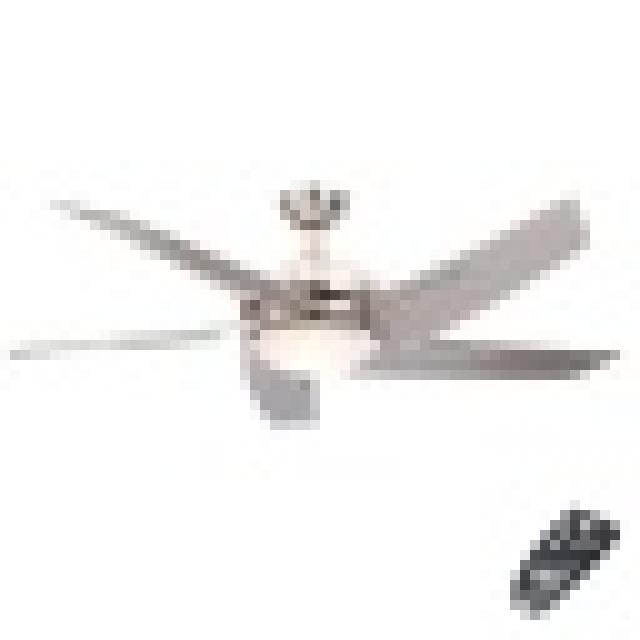Bulb: (32, 152, 635, 448)
